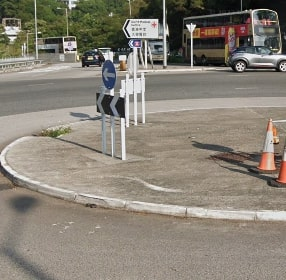Turn Left: (100, 58, 120, 90)
Turn Left(quick): (94, 89, 127, 121)
